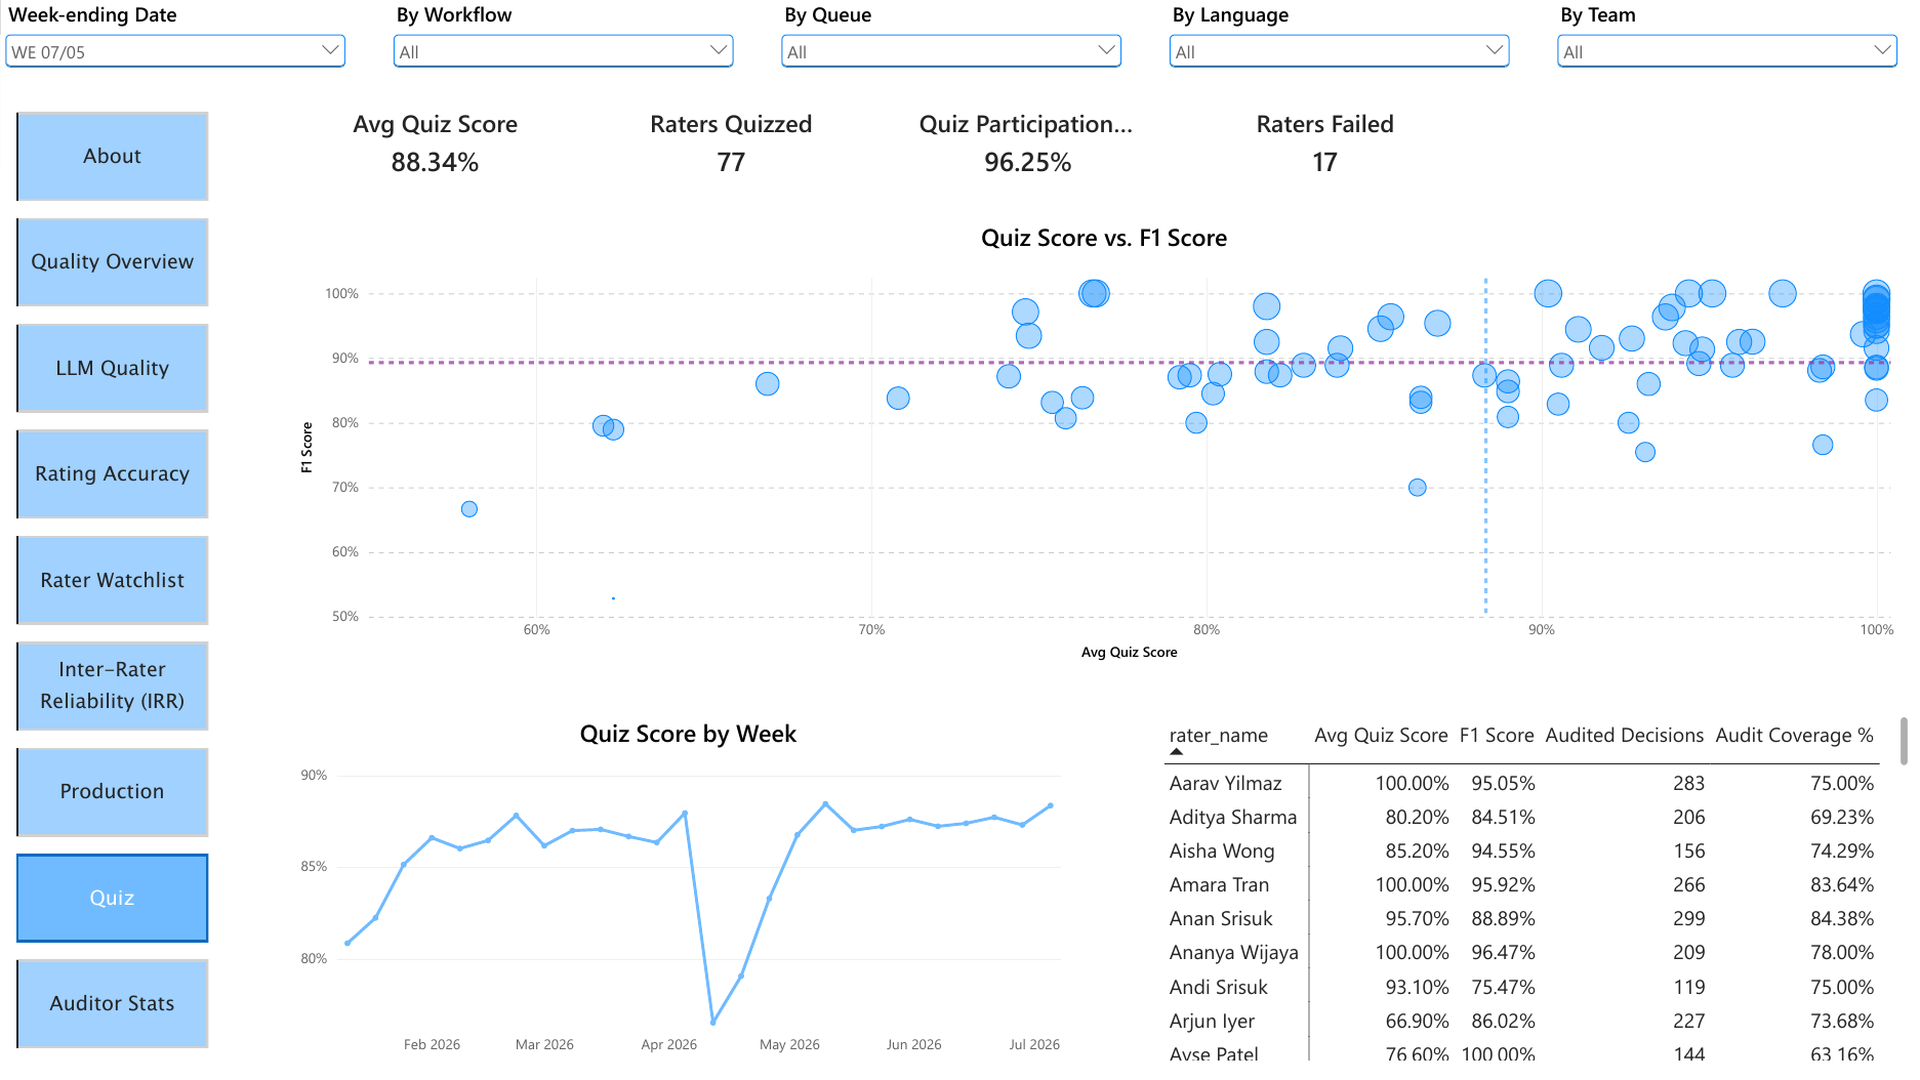

The dashboard page shown, as its layout file describes it:
{"tool":"powerbi","page":{"name":"Quiz","canvas":[1920,1080],"ordinal":7},"visuals":[{"type":"slicer","title":"By WE","fields":{"Values":["Dim_Date.week_label"]},"box":[6,9.8,350,80],"z":0,"group":"g1"},{"type":"cardVisual","fields":{"Data":["_Measures.Avg Quiz Score"]},"box":[256,100,359.2,100],"z":0,"group":"g2"},{"type":"pivotTable","fields":{"Rows":["Dim_Rater.rater_name"],"Values":["_Measures.Avg Quiz Score","_Measures.F1 Score","_Measures.Audited Decisions","_Measures.Audit Coverage %"]},"box":[1104,704,784,352],"z":0},{"type":"slicer","fields":{"Values":["Dim_Rater.team"]},"box":[1558,9.8,350,80],"z":1000,"group":"g1"},{"type":"cardVisual","fields":{"Data":["Count(Fact_Quiz.rater_id)"]},"box":[682.4,100,359.2,100],"z":1000,"group":"g2"},{"type":"scatterChart","title":"Quiz Score vs. F1 Score","fields":{"Category":["Dim_Rater.rater_name"],"Size":["_Measures.F1 Score"],"X":["_Measures.Avg Quiz Score"],"Y":["_Measures.F1 Score"]},"box":[256,224,1632,464],"z":1000},{"type":"slicer","fields":{"Values":["Dim_Rater.language"]},"box":[1170,9.8,350,80],"z":2000,"group":"g1"},{"type":"cardVisual","fields":{"Data":["_Measures.Quiz Participation %"]},"box":[1108.8,100,359.2,100],"z":2000,"group":"g2"},{"type":"lineChart","title":"Quiz Score by Week","fields":{"Category":["Dim_Date.week_end.Variation.Date Hierarchy.Year","Dim_Date.week_end.Variation.Date Hierarchy.Quarter","Dim_Date.week_end.Variation.Date Hierarchy.Month","Dim_Date.week_end.Variation.Date Hierarchy.Day"],"Y":["_Measures.Avg Quiz Score"]},"box":[256,704,800,352],"z":2000},{"type":"group","id":"g1","title":"Group 4","box":[0,9.8,1908,1062.2],"z":3000},{"type":"slicer","fields":{"Values":["Dim_Queue.queue_id"]},"box":[782,9.8,350,80],"z":3000,"group":"g1"},{"type":"cardVisual","fields":{"Data":["_Measures.Raters Below Quiz Threshold"]},"box":[1535.2,100,359.2,100],"z":3000,"group":"g2"},{"type":"slicer","fields":{"Values":["Dim_Queue.workflow"]},"box":[394,9.8,350,80],"z":4000,"group":"g1"},{"type":"group","id":"g2","title":"Group 1","box":[256,100,1632,96],"z":4000},{"type":"pageNavigator","box":[0,96,224,976],"z":9000,"group":"g1"}]}

Visuals, with their boxes on the page's 1920x1080 design canvas (x1, y1, x2, y2). These are canvas units, not pixel positions in the 1920x1080 screenshot, which may show the page scaled, cropped or inside an application window:
"By WE" slicer: Rect(6, 10, 356, 90)
cardVisual - _Measures.Avg Quiz Score: Rect(256, 100, 615, 200)
pivotTable - Dim_Rater.rater_name x _Measures.Avg Quiz Score: Rect(1104, 704, 1888, 1056)
slicer - Dim_Rater.team: Rect(1558, 10, 1908, 90)
cardVisual - Count(Fact_Quiz.rater_id): Rect(682, 100, 1042, 200)
"Quiz Score vs. F1 Score" scatterChart: Rect(256, 224, 1888, 688)
slicer - Dim_Rater.language: Rect(1170, 10, 1520, 90)
cardVisual - _Measures.Quiz Participation %: Rect(1109, 100, 1468, 200)
"Quiz Score by Week" lineChart: Rect(256, 704, 1056, 1056)
"Group 4" group: Rect(0, 10, 1908, 1072)
slicer - Dim_Queue.queue_id: Rect(782, 10, 1132, 90)
cardVisual - _Measures.Raters Below Quiz Threshold: Rect(1535, 100, 1894, 200)
slicer - Dim_Queue.workflow: Rect(394, 10, 744, 90)
"Group 1" group: Rect(256, 100, 1888, 196)
pageNavigator: Rect(0, 96, 224, 1072)
